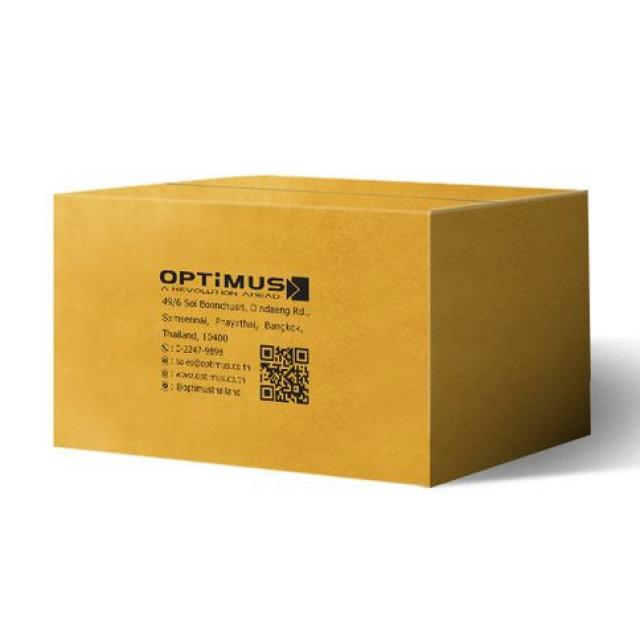box: (36, 132, 623, 500)
